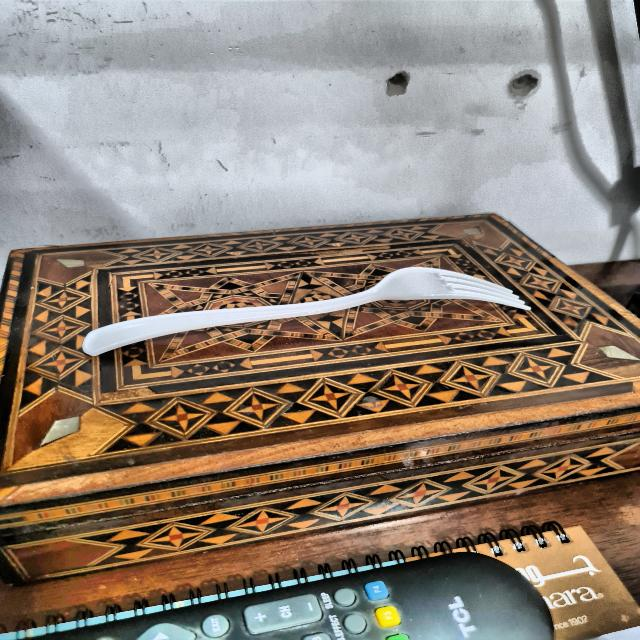plastic utensil: (72, 262, 547, 369)
